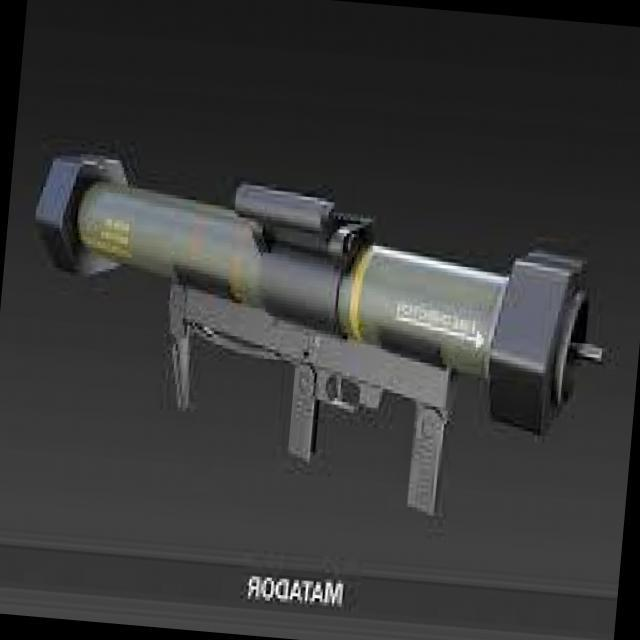rocket: (18, 150, 618, 530)
